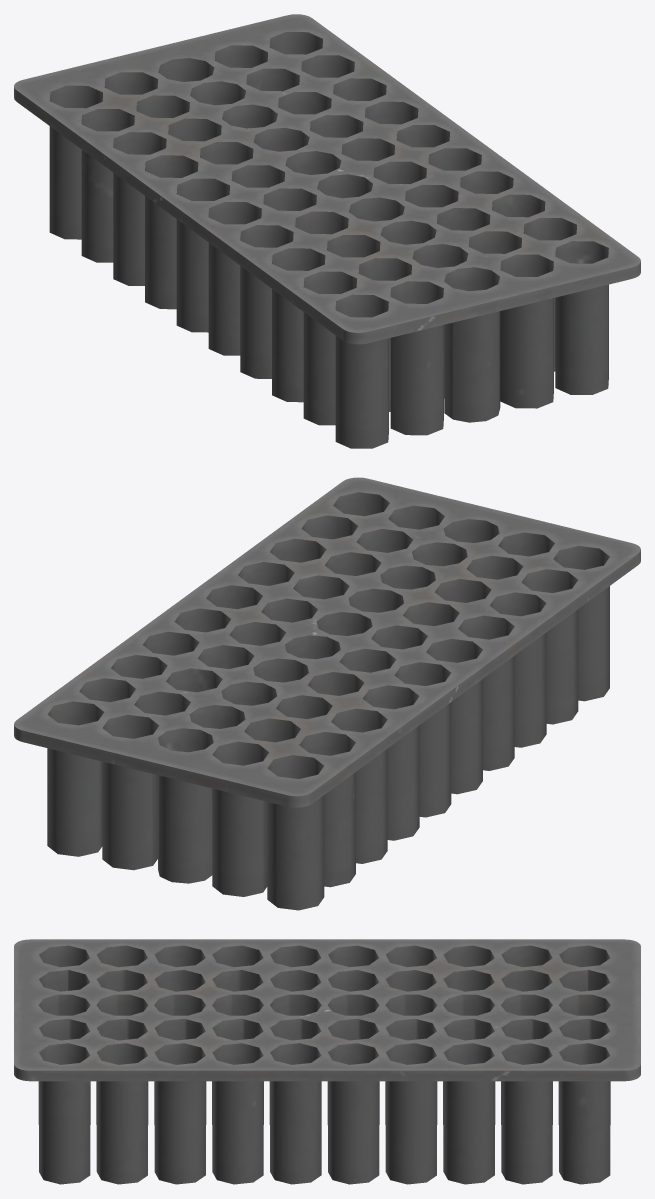
Rendered from SM_Ammo_Plastic_Case_01d.glb.
The picture shows the model from 3 angles, top to bottom: view 1: azimuth 30°, elevation 25°; view 2: azimuth 150°, elevation 25°; view 3: azimuth 270°, elevation 25°; orthographic projection. The views are drawn at different scales.
Parts seen in each view (by area): view 1: SM_Ammo_Plastic_Case_01d; view 2: SM_Ammo_Plastic_Case_01d; view 3: SM_Ammo_Plastic_Case_01d.
Part boxes in pixels (left/top/right/bottom): SM_Ammo_Plastic_Case_01d: left=14, top=14, right=640, bottom=448; SM_Ammo_Plastic_Case_01d: left=14, top=477, right=640, bottom=910; SM_Ammo_Plastic_Case_01d: left=14, top=939, right=640, bottom=1184.
Size of the model in its own units: 0.0845 by 0.0359 by 0.1706.
Materials: 1 (1 with a texture image).
